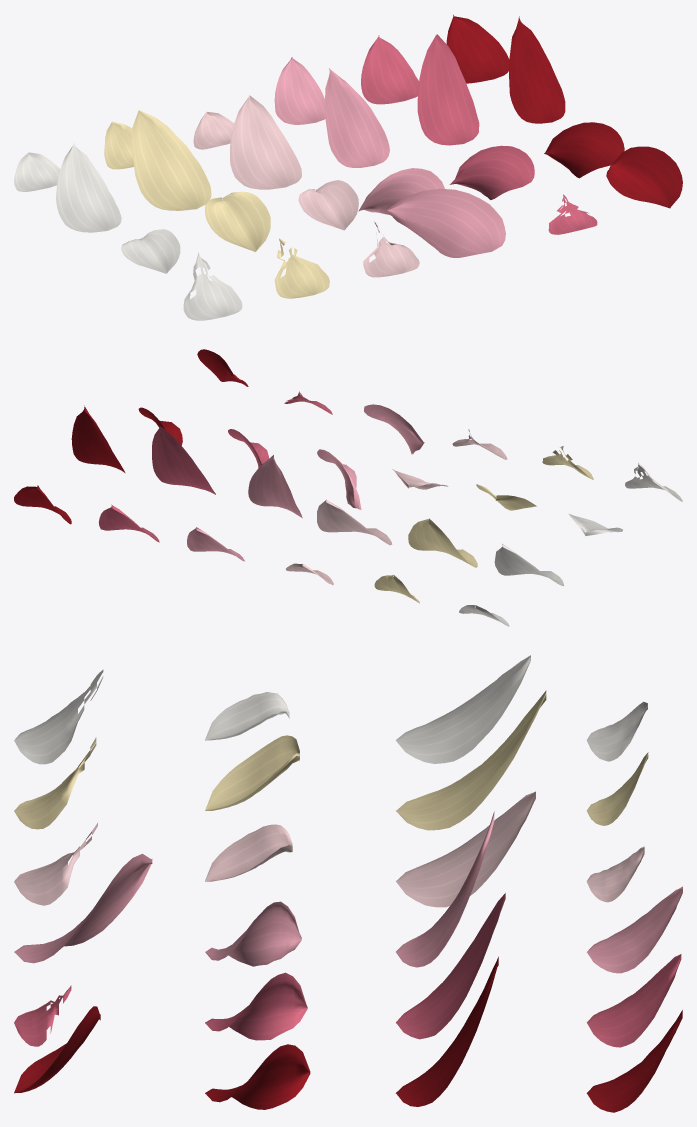
File: peony_petals_combined.glb
The picture shows the model from 3 angles, top to bottom: view 1: azimuth 30°, elevation 25°; view 2: azimuth 150°, elevation 25°; view 3: azimuth 270°, elevation 25°; orthographic projection. The views are drawn at different scales.
Parts seen in each view (by area): view 1: Petals_Combined; view 2: Petals_Combined; view 3: Petals_Combined.
Part boxes in pixels (x1,y1,x2,y2): Petals_Combined: (14, 14, 682, 320); Petals_Combined: (14, 349, 682, 626); Petals_Combined: (14, 655, 682, 1112).
Bounding box in the file's own units: 0.7874 × 0.1552 × 0.5608.
Materials: 6 (6 with a texture image).
